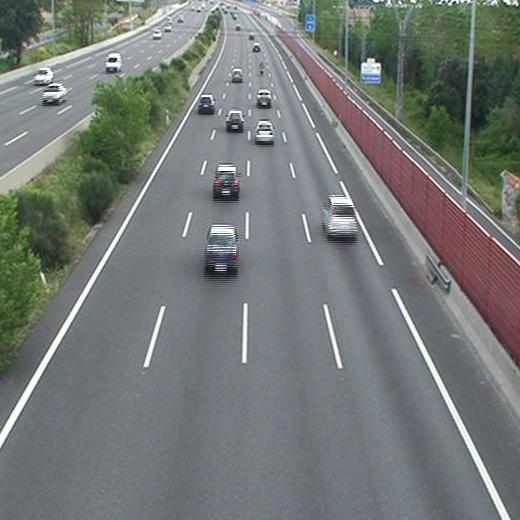car: (205, 226, 238, 275), (323, 197, 356, 237), (213, 166, 239, 195), (255, 121, 274, 142), (225, 112, 245, 130), (198, 95, 214, 111), (256, 90, 271, 107), (231, 68, 244, 81), (253, 44, 260, 52)
motorcycle: (258, 60, 265, 75)
